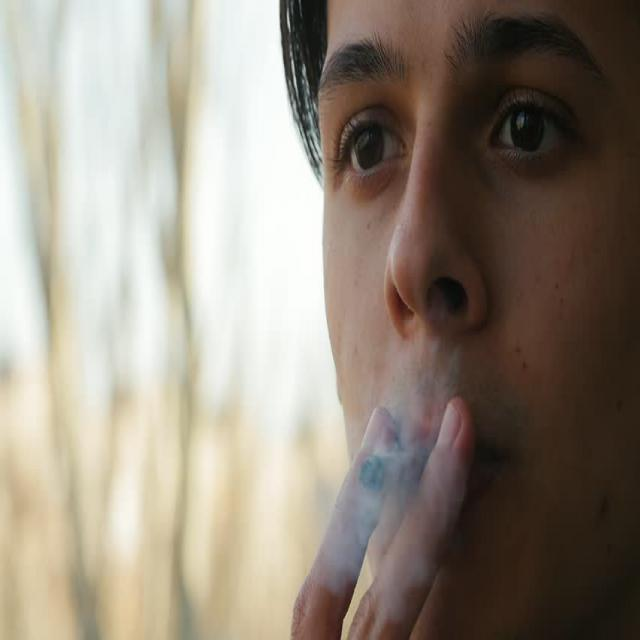smoking: (336, 420, 437, 496)
